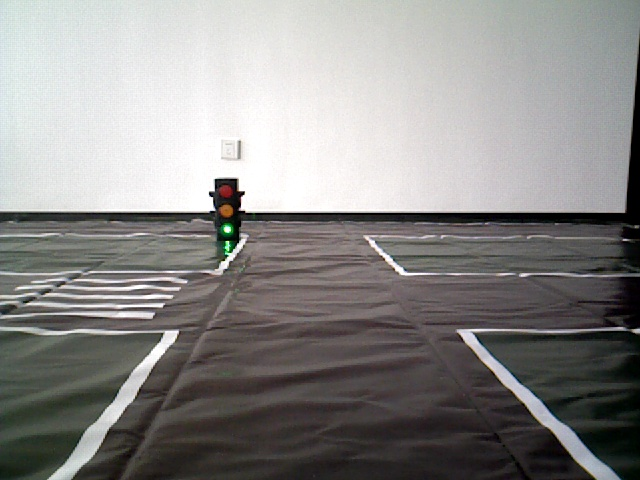green: (214, 182, 238, 237)
